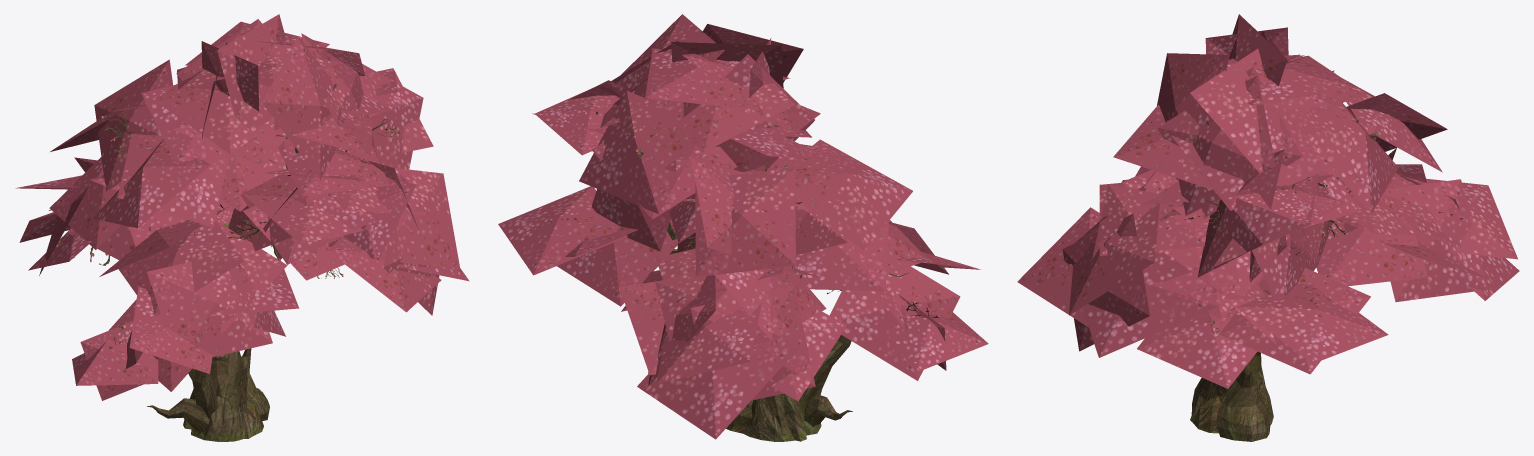
The model's file is Hangzhou_wj_032.FBX.
3 views of the same model, side by side, from view 1: azimuth 30°, elevation 25°; view 2: azimuth 150°, elevation 25°; view 3: azimuth 270°, elevation 25° (orthographic). The views are drawn at different scales.
Parts seen in each view (by area): view 1: Object006, CA_WO_Ltree24_A, Object007; view 2: Object006, CA_WO_Ltree24_A; view 3: Object006, CA_WO_Ltree24_A, Object007.
Boxes of the visible parts, x1,y1,x2,y2 form: Object006: (15,14,469,400); CA_WO_Ltree24_A: (114,106,387,441); Object007: (56,83,401,348); Object006: (498,14,988,439); CA_WO_Ltree24_A: (543,210,909,441); Object006: (1017,14,1519,388); CA_WO_Ltree24_A: (1190,199,1322,441); Object007: (1156,120,1463,336).
Size of the model in its own units: 269 by 232 by 264.
3 materials, 3 textured.
